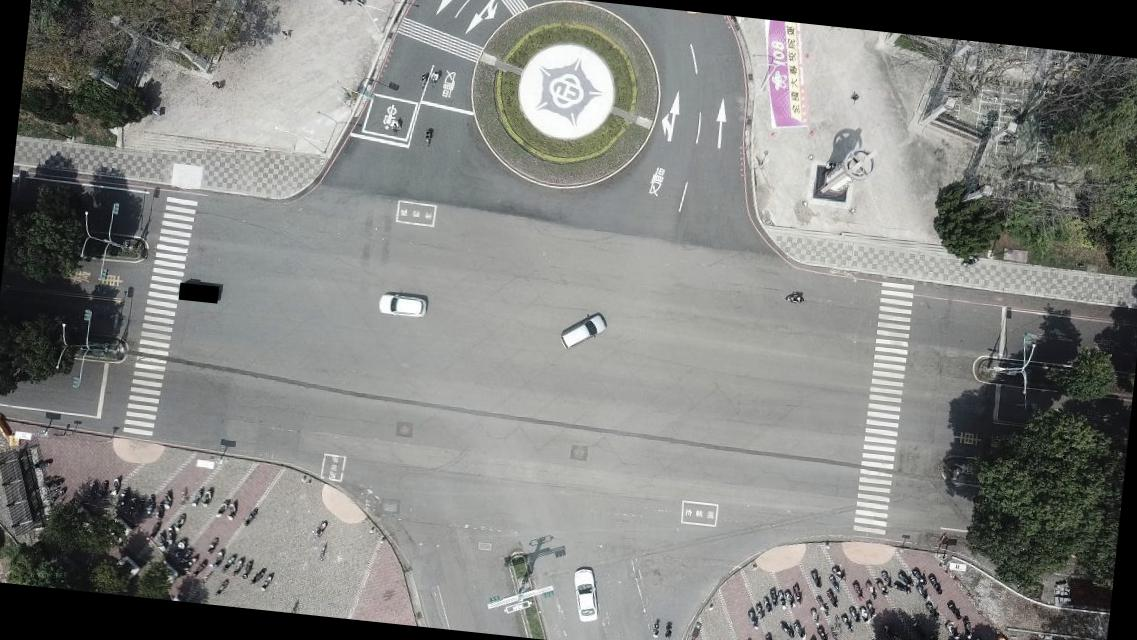vehicle: (559, 308, 607, 352), (569, 566, 602, 623), (377, 291, 427, 317)
